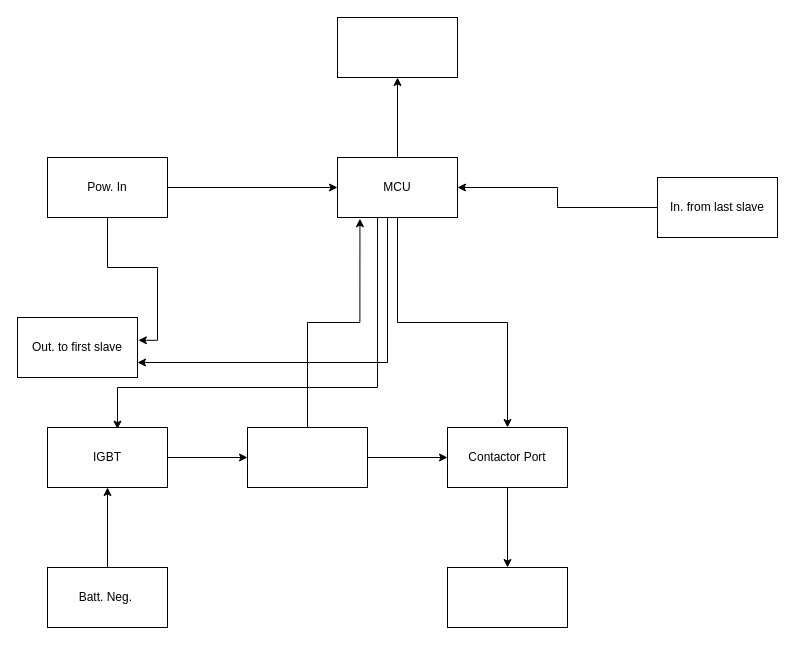
The diagram is 795 pixels wide and 645 high, and some of its shapes have lost their labels. The centre of each missing label's shape, as x and y in pixels:
Battery Drain/Charge: the point at 507,597
Current shunt: the point at 307,457
Data Out to Electronics: the point at 397,47
